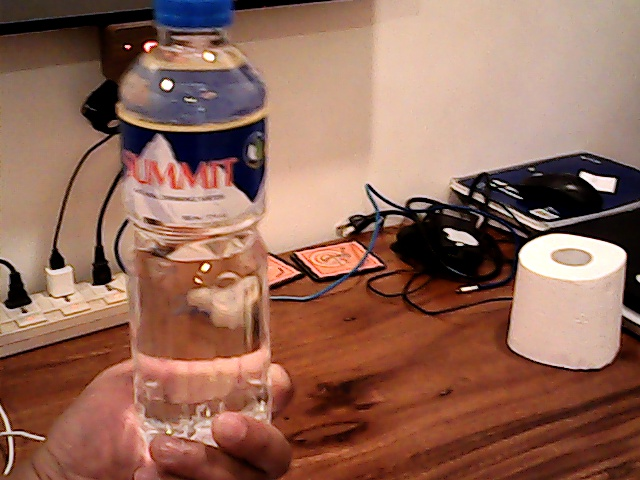Summit Water: (123, 5, 276, 453)
